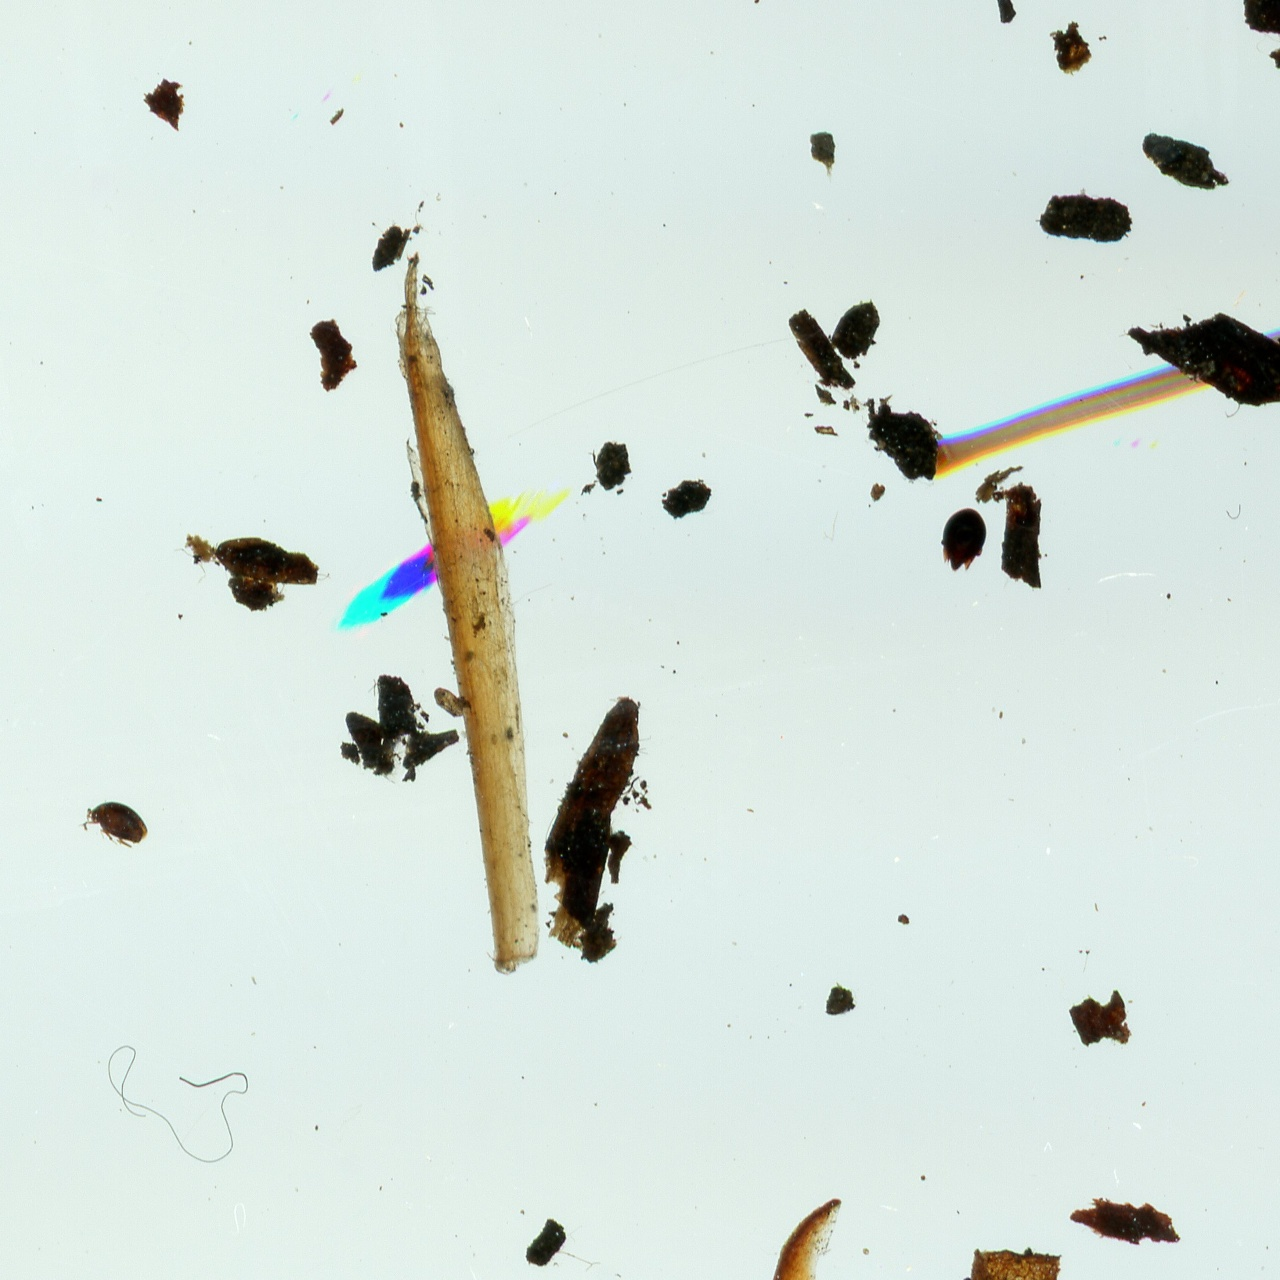arthropod: (79, 801, 152, 851)
